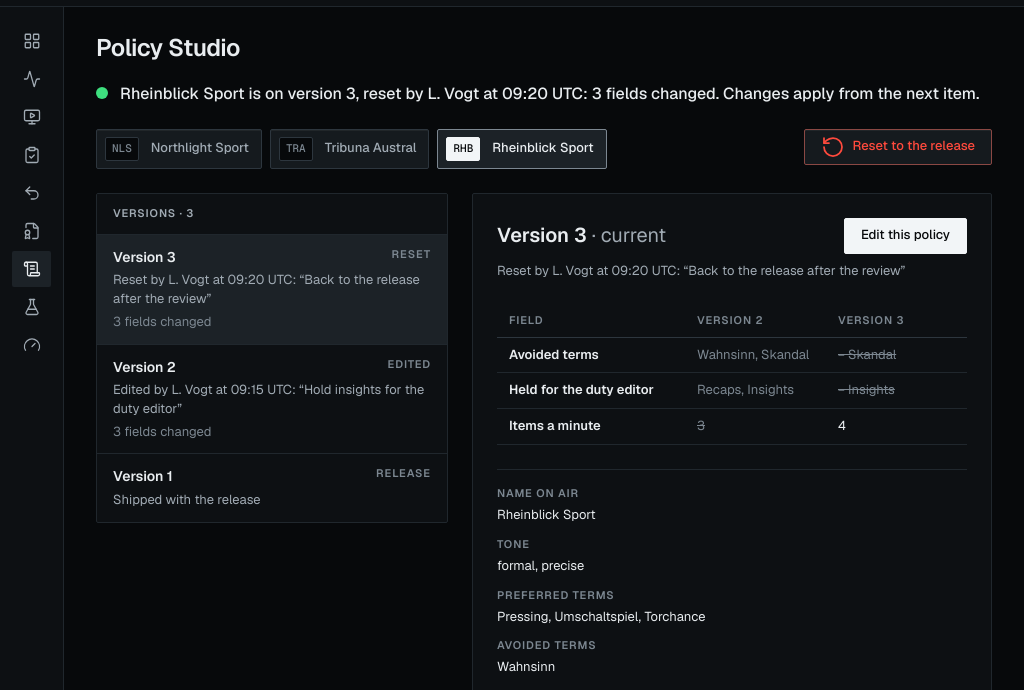
Test: PolicyStudio › asks for a reason instead of saving without one
Expected: the list named "Versions" is shown, [97,235,447,522]
Click the button "Edit this policy" at (905, 236), box [844,218,967,254]
(page scrolled)
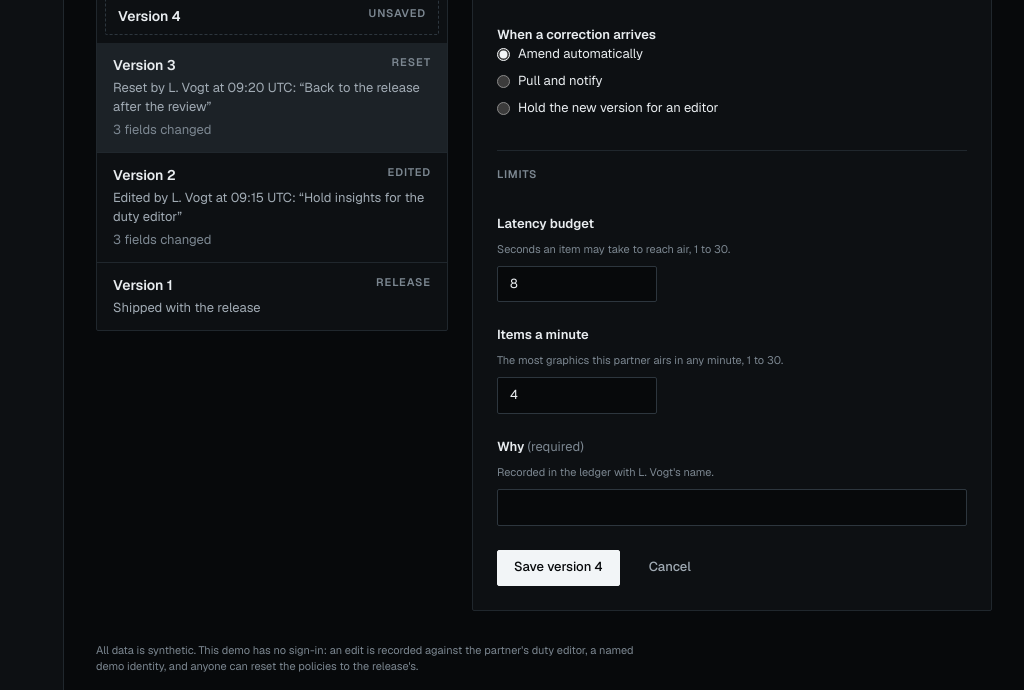
Click the button "Save version 4" at (558, 568), box [497,550,620,586]
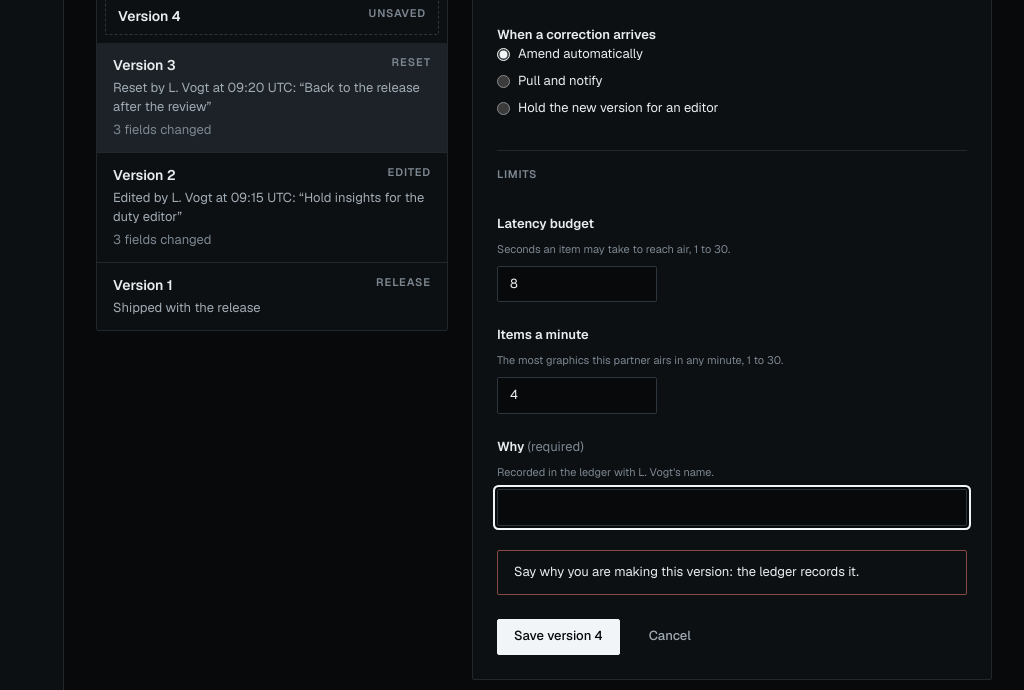
Expected: the message shows "Say why", [514,563,859,580]
